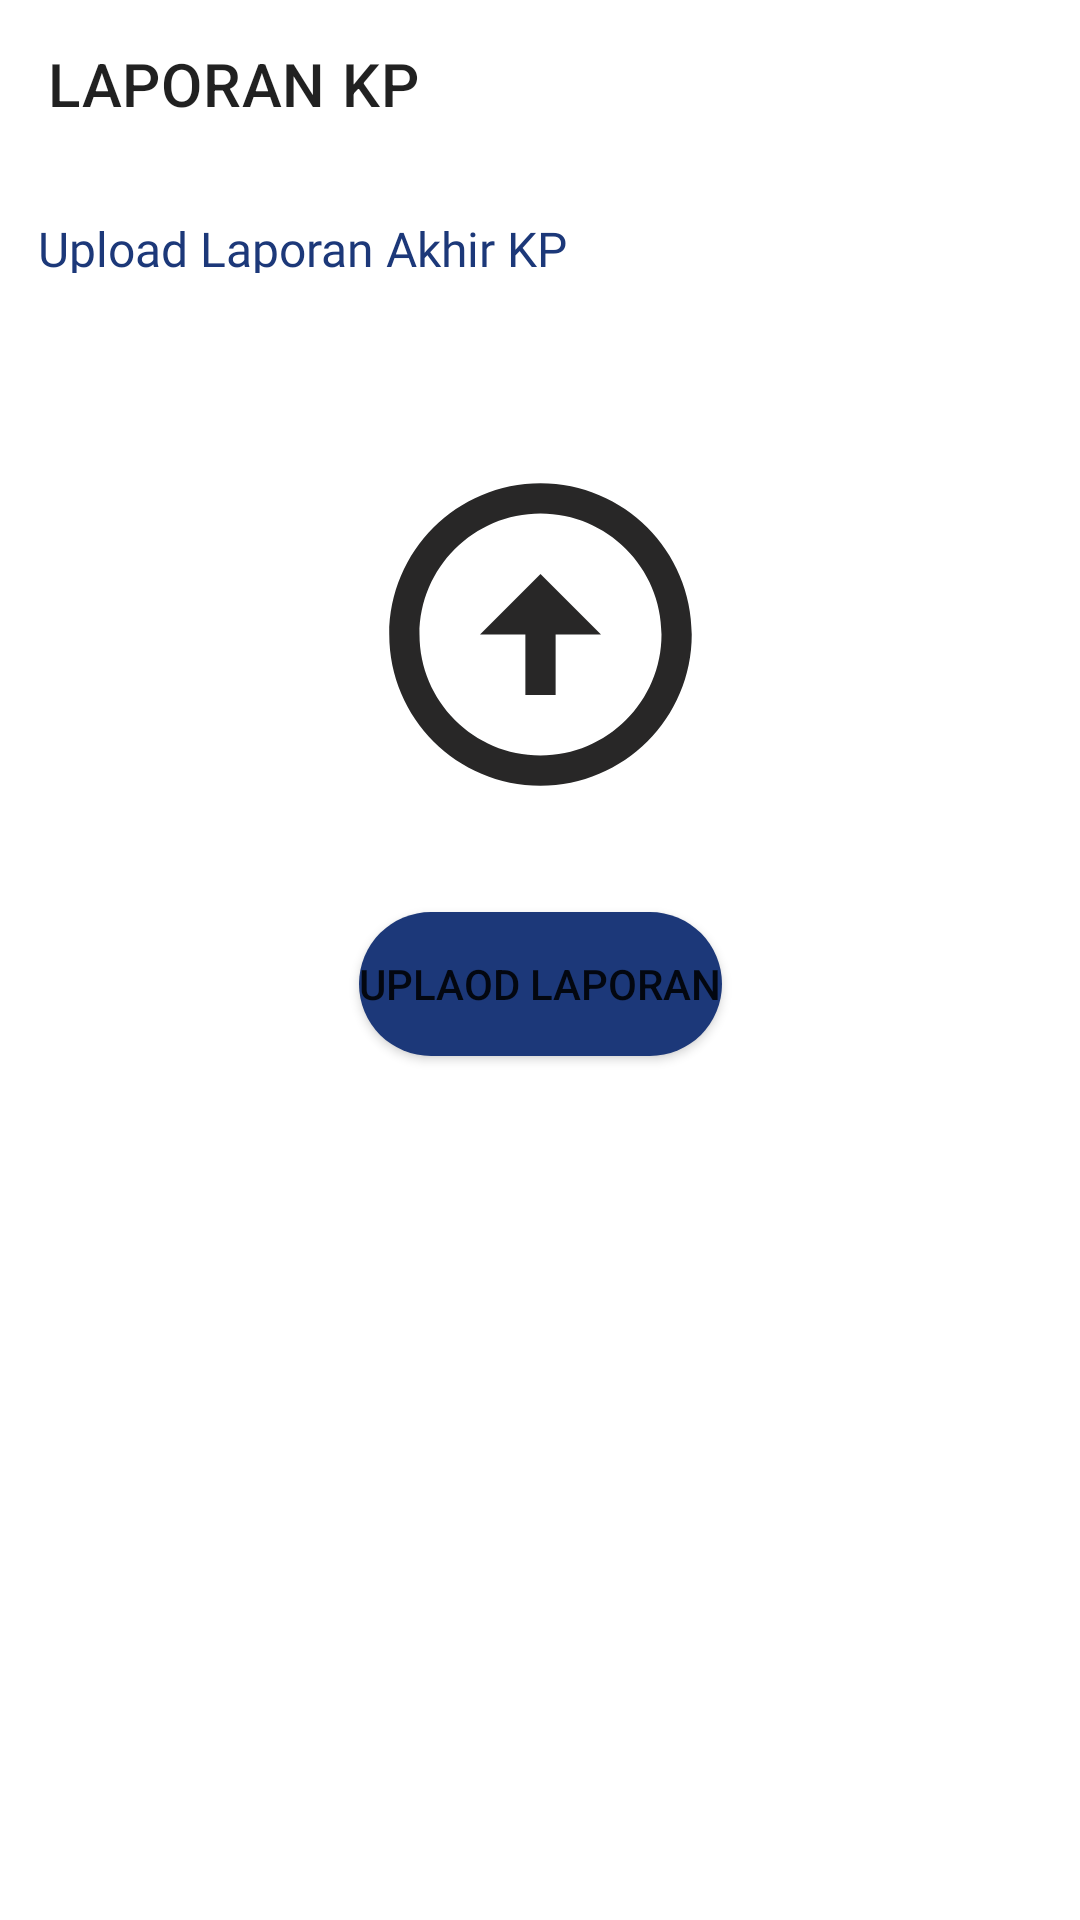

Screen size 1080w x 1920h. Icon name, then its center in pixels as (x=x, y=y):
arrow circle up: (x=540, y=634)
